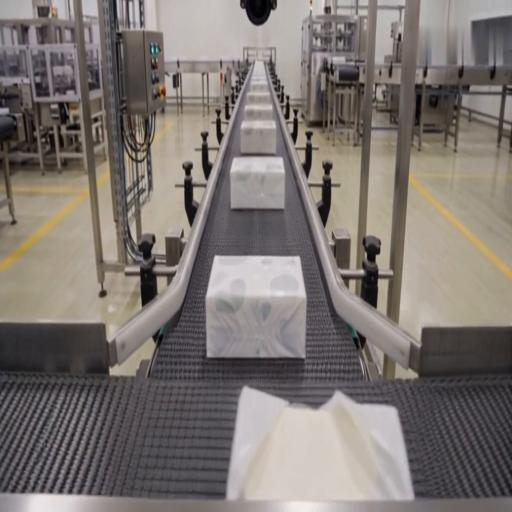defective: (230, 383, 412, 503), (206, 255, 306, 360)
good: (229, 156, 286, 212), (239, 118, 278, 156), (242, 100, 274, 120), (245, 89, 272, 106), (248, 64, 270, 84), (332, 56, 346, 66)
